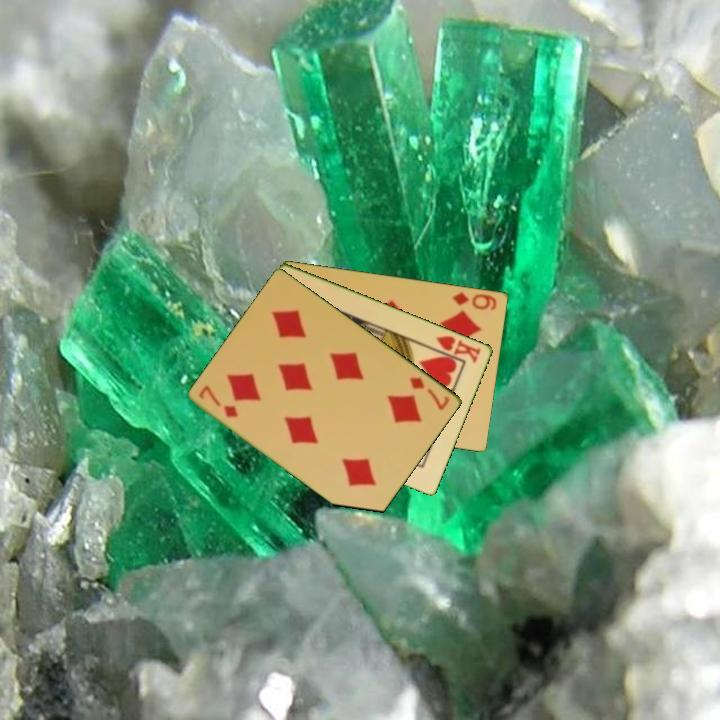6d: (449, 288, 500, 313)
7d: (406, 373, 453, 413), (196, 382, 242, 421)
Kh: (427, 332, 484, 366)
